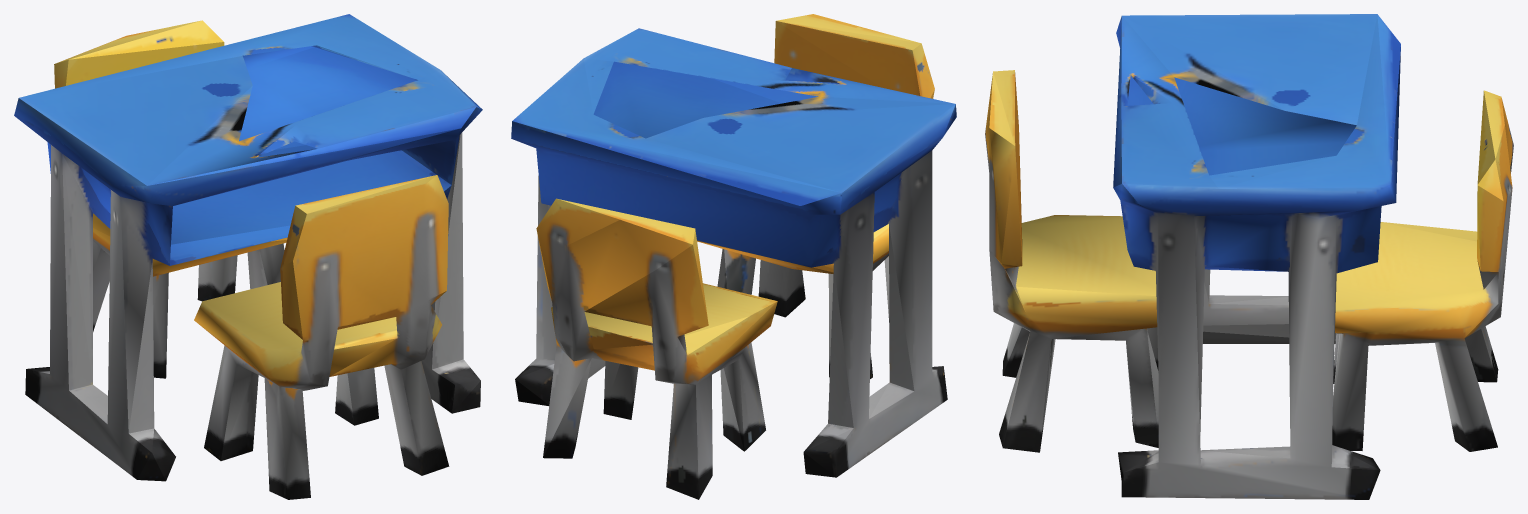
Rendered from student-desk-broken.glb.
3 renders of one model, left to right at view 1: azimuth 30°, elevation 25°; view 2: azimuth 150°, elevation 25°; view 3: azimuth 270°, elevation 25°, orthographic. The views are drawn at different scales.
Visible parts, largest first — view 1: geometry_0.001; view 2: geometry_0.001; view 3: geometry_0.001.
Part boxes in pixels (x1=…): geometry_0.001: x1=14, y1=14, x2=482, y2=499; geometry_0.001: x1=511, y1=14, x2=956, y2=499; geometry_0.001: x1=985, y1=14, x2=1513, y2=499.
Size of the model in its own units: 0.8003 by 0.6596 by 0.997.
1 material, 1 textured.
